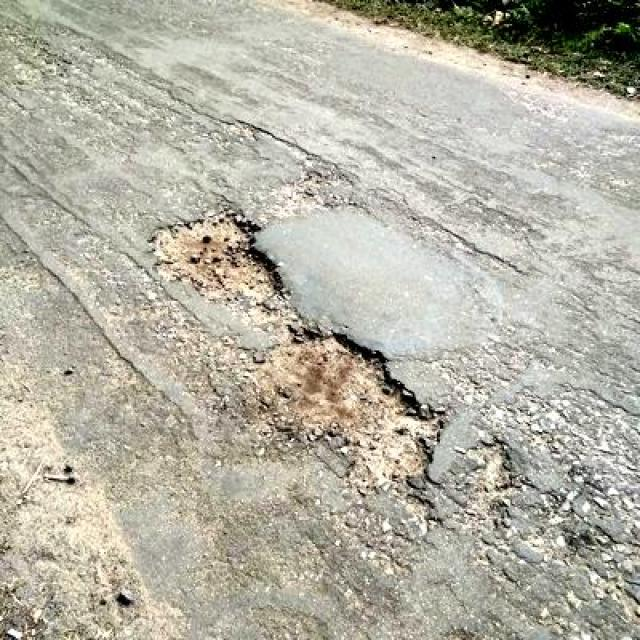pothole: (238, 326, 442, 485), (141, 203, 293, 312), (464, 442, 515, 494)
